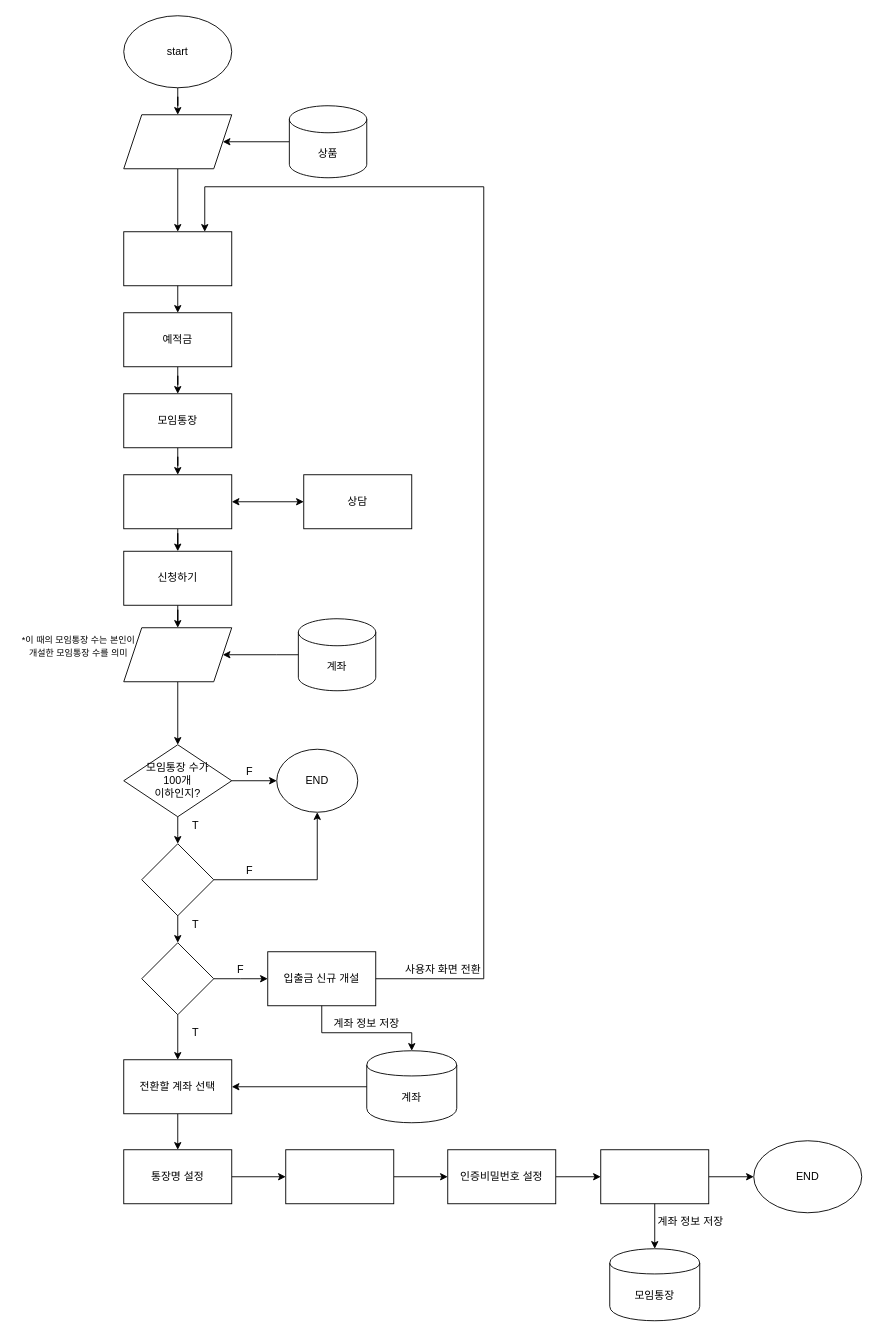
Image size: 878x1337. Some labels were removed from this diagram. Here are the shapes that lost their labels. From the top down, the centre of each, then its label:
the point at 177,141: 상품정보
the point at 177,258: 상품/서비스
the point at 177,501: 모임통장 상품 상세설명
the point at 177,654: *모임통장 수
the point at 177,879: 약관 동의
the point at 177,978: 기계좌 전환
the point at 339,1176: 태그설정
the point at 654,1176: 전환 완료
